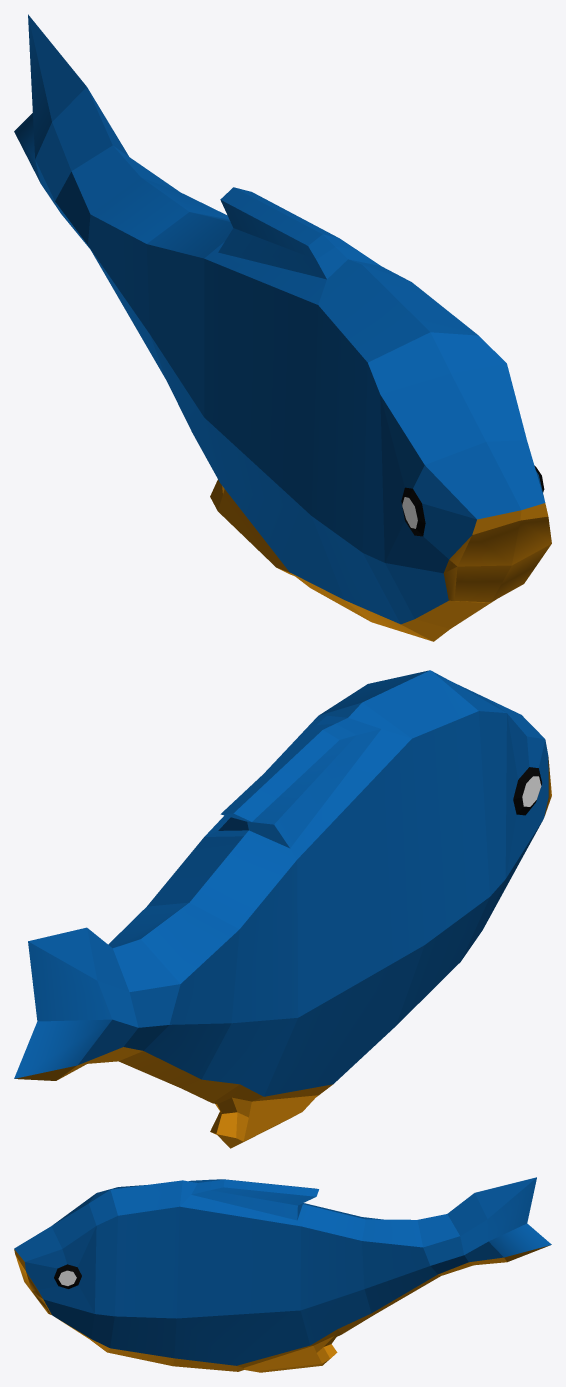
Rendered from Fish-2b.fbx.
3 renders of one model, top to bottom at view 1: azimuth 30°, elevation 25°; view 2: azimuth 150°, elevation 25°; view 3: azimuth 270°, elevation 25°, orthographic. The views are drawn at different scales.
Visible parts, largest first — view 1: Fish-2; view 2: Fish-2; view 3: Fish-2.
Part boxes in pixels (x1,y1,x2,y2): Fish-2: (14, 14, 551, 641); Fish-2: (14, 670, 551, 1148); Fish-2: (14, 1177, 551, 1372).
Bounding box in the file's own units: 0.0938 × 0.257 × 0.6408.
